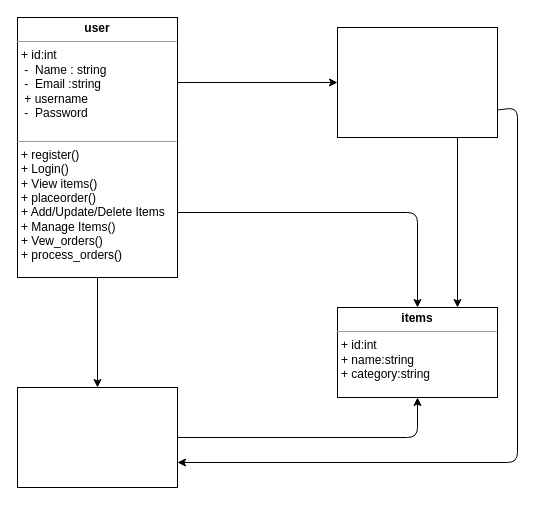
The diagram is 543 pixels wide and 505 high, and some of its shapes have lost their labels. Here are the shapes that lost their labels. From the top down, the box of each, then its label:
(336, 26, 498, 138): Authentication + admin + customer + login_as_admin() + login_as_customer()
(16, 386, 178, 488): Orders + id:int + item_id:int + status:bool + customer_id:int
